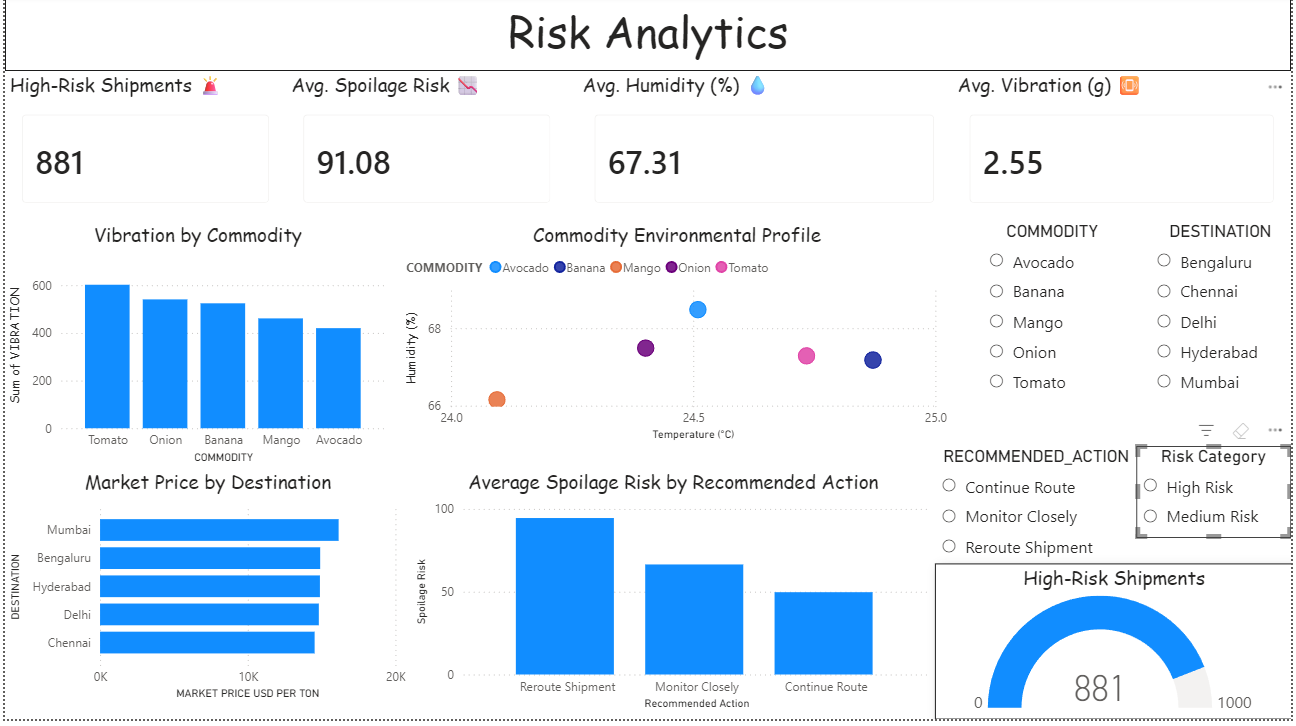

The dashboard page shown, as its layout file describes it:
{"tool":"powerbi","page":{"name":"Risk Analytics","canvas":[1280,720],"ordinal":2},"visuals":[{"type":"cardVisual","title":"High-Risk Shipments 🚨","fields":{"Data":["ATMOSYNC_DATA.High-Risk Shipments"]},"box":[0,75,280,148.8],"z":0},{"type":"cardVisual","title":"Avg. Spoilage Risk 📉","fields":{"Data":["ATMOSYNC_DATA.Avg. Spoilage Risk"]},"box":[280,75,280,148.8],"z":1000},{"type":"cardVisual","title":"Avg. Humidity (%) 💧","fields":{"Data":["ATMOSYNC_DATA.Avg. Humidity"]},"box":[570,75,372.5,148.8],"z":2000},{"type":"cardVisual","title":"Avg. Vibration (g) 📳","fields":{"Data":["ATMOSYNC_DATA.Avg. Vibration"]},"box":[942.5,75,337.5,148.8],"z":3000},{"type":"textbox","box":[0,0,1280,75],"z":4000},{"type":"clusteredColumnChart","title":"Vibration by Commodity","fields":{"Category":["ATMOSYNC_DATA.COMMODITY"],"Y":["Sum(ATMOSYNC_DATA.VIBRATION_G)"]},"box":[0,223.8,383.8,246.2],"z":5000},{"type":"clusteredBarChart","title":"Market Price by Destination","fields":{"Category":["ATMOSYNC_DATA.DESTINATION"],"Y":["Sum(ATMOSYNC_DATA.MARKET_PRICE_USD_PER_TON)"]},"box":[0,470,403.8,235],"z":6000},{"type":"scatterChart","title":"Commodity Environmental Profile","fields":{"Series":["ATMOSYNC_DATA.COMMODITY"],"Size":["Avg(ATMOSYNC_DATA.SPOILAGE_RISK)"],"X":["ATMOSYNC_DATA.TEMPERATURE_C"],"Y":["ATMOSYNC_DATA.HUMIDITY_PCT"]},"box":[394.3,223.9,544.9,218.9],"z":7000},{"type":"columnChart","title":"Average Spoilage Risk by Recommended Action","fields":{"Category":["ATMOSYNC_DATA.RECOMMENDED_ACTION"],"Y":["ATMOSYNC_DATA.Avg. Spoilage Risk"]},"box":[403.8,470,521.2,245],"z":8000},{"type":"listSlicer","fields":{"Values":["ATMOSYNC_DATA.COMMODITY"]},"box":[972.5,223.8,138.8,180],"z":9000},{"type":"listSlicer","fields":{"Values":["ATMOSYNC_DATA.DESTINATION"]},"box":[1140,223.8,140,185],"z":10000},{"type":"listSlicer","fields":{"Values":["ATMOSYNC_DATA.RECOMMENDED_ACTION"]},"box":[939.2,430.4,200.3,134.3],"z":11000},{"type":"listSlicer","fields":{"Values":["ATMOSYNC_DATA.Risk Category"]},"box":[1139.5,434.1,140.6,114.4],"z":12000},{"type":"gauge","title":"High-Risk Shipments","fields":{"MaxValue":["ATMOSYNC_DATA.Gauge Max"],"MinValue":["ATMOSYNC_DATA.Gauge Min"],"Y":["ATMOSYNC_DATA.High-Risk Shipments"]},"box":[925,565,355,155],"z":13000}]}

Visuals, with their boxes in screenshot pixels (x1, y1, x2, y2), scaled from the page's 1280x720 canvas onto the 1296x726 screenshot:
"High-Risk Shipments 🚨" cardVisual: box=[0, 76, 284, 226]
"Avg. Spoilage Risk 📉" cardVisual: box=[284, 76, 567, 226]
"Avg. Humidity (%) 💧" cardVisual: box=[577, 76, 954, 226]
"Avg. Vibration (g) 📳" cardVisual: box=[954, 76, 1295, 226]
textbox: box=[0, 0, 1295, 76]
"Vibration by Commodity" clusteredColumnChart: box=[0, 226, 389, 474]
"Market Price by Destination" clusteredBarChart: box=[0, 474, 409, 711]
"Commodity Environmental Profile" scatterChart: box=[399, 226, 951, 446]
"Average Spoilage Risk by Recommended Action" columnChart: box=[409, 474, 937, 721]
listSlicer - ATMOSYNC_DATA.COMMODITY: box=[985, 226, 1125, 407]
listSlicer - ATMOSYNC_DATA.DESTINATION: box=[1154, 226, 1295, 412]
listSlicer - ATMOSYNC_DATA.RECOMMENDED_ACTION: box=[951, 434, 1154, 569]
listSlicer - ATMOSYNC_DATA.Risk Category: box=[1154, 438, 1295, 553]
"High-Risk Shipments" gauge: box=[937, 570, 1295, 725]
